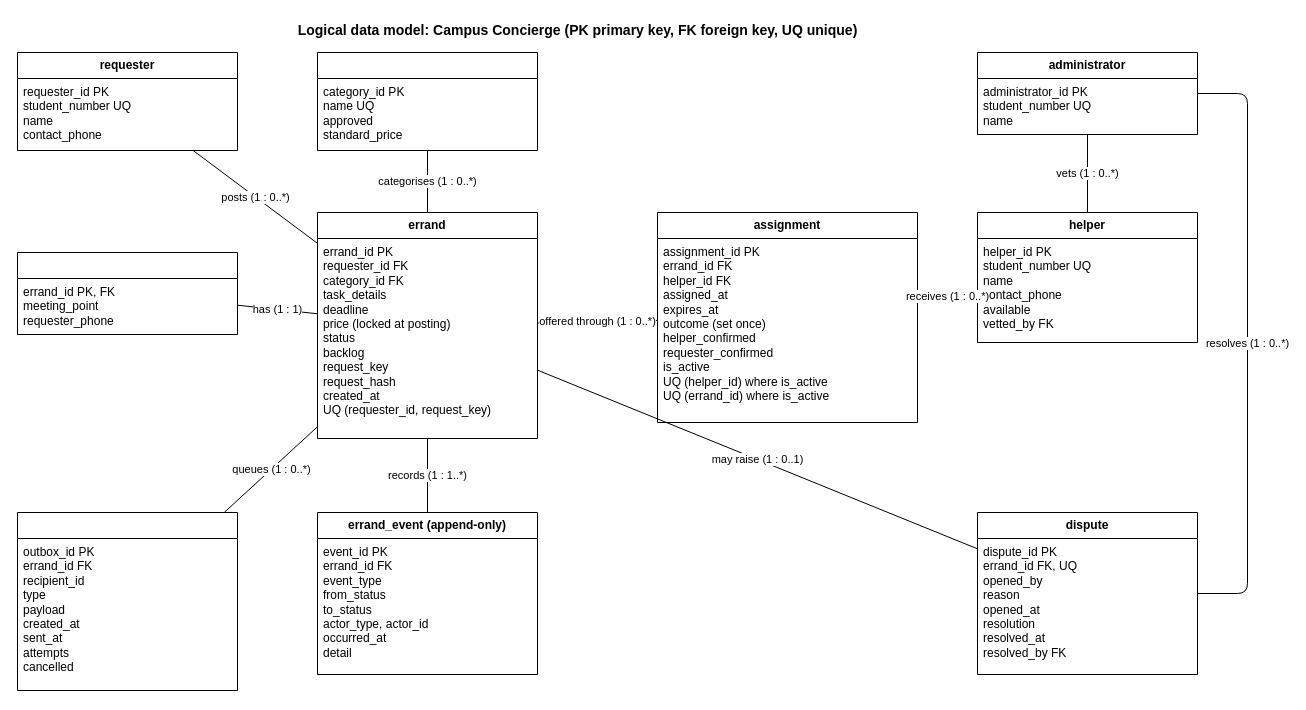
This 1306x710 diagram has some shape labels left out. The shapes that lost their labels are listed below. From the top down, each one's box as (x1, y1, x2, y2) in pixels, then its label:
(316, 52, 538, 150): errand_category
(16, 252, 238, 334): errand_contact
(16, 512, 238, 690): notification_outbox
